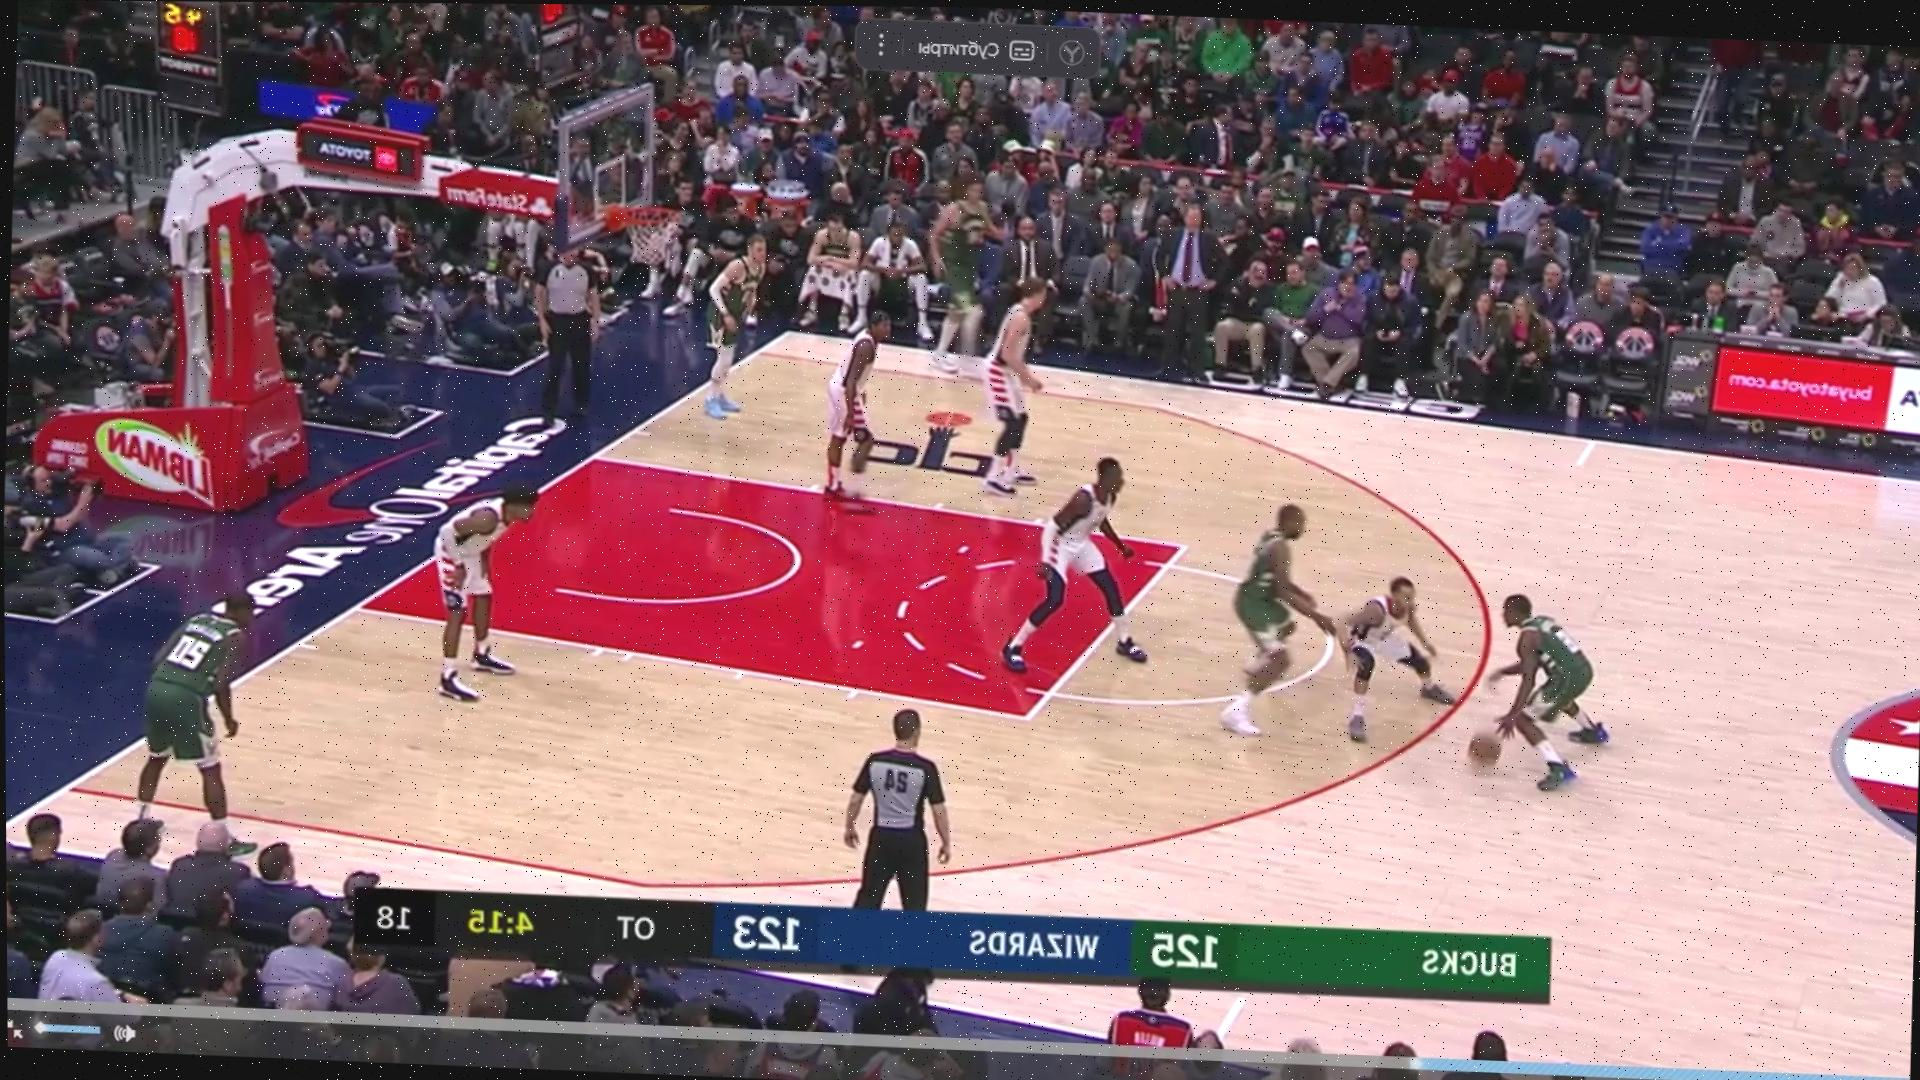no_foul: (1314, 569, 1612, 797)
